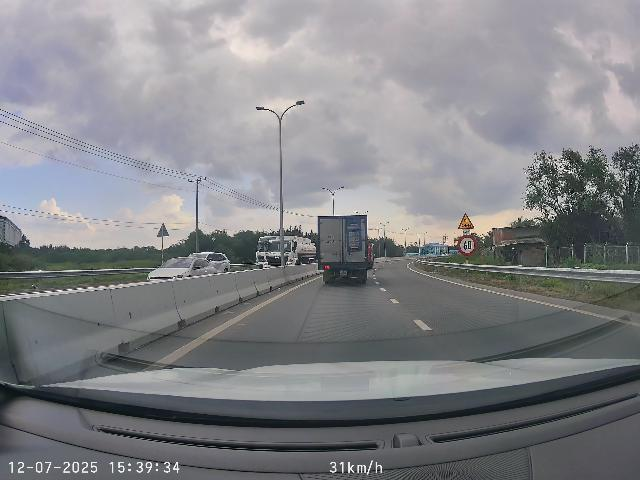127-toc-do-toi-da-60: (457, 235, 477, 256)
245-di-cham: (458, 213, 475, 230)
